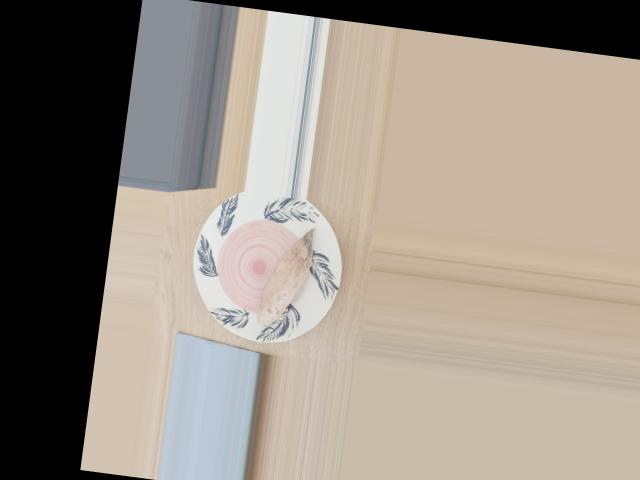sweet_potato: (252, 232, 315, 324)
